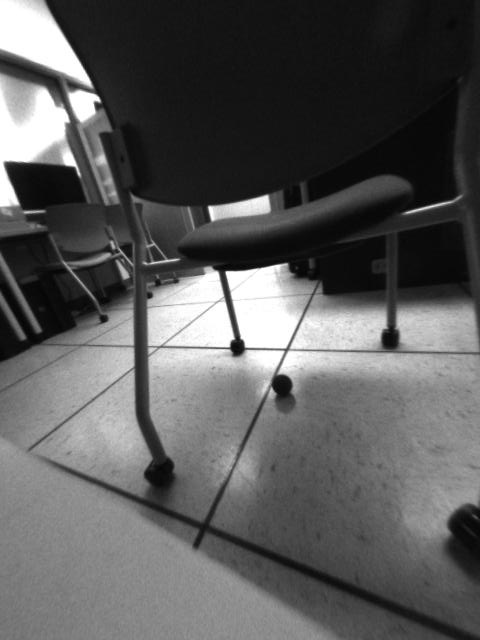dogtoy: (266, 371, 306, 403)
